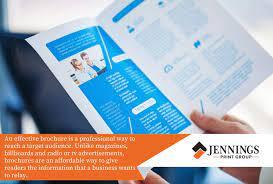paper: (25, 0, 273, 134)
